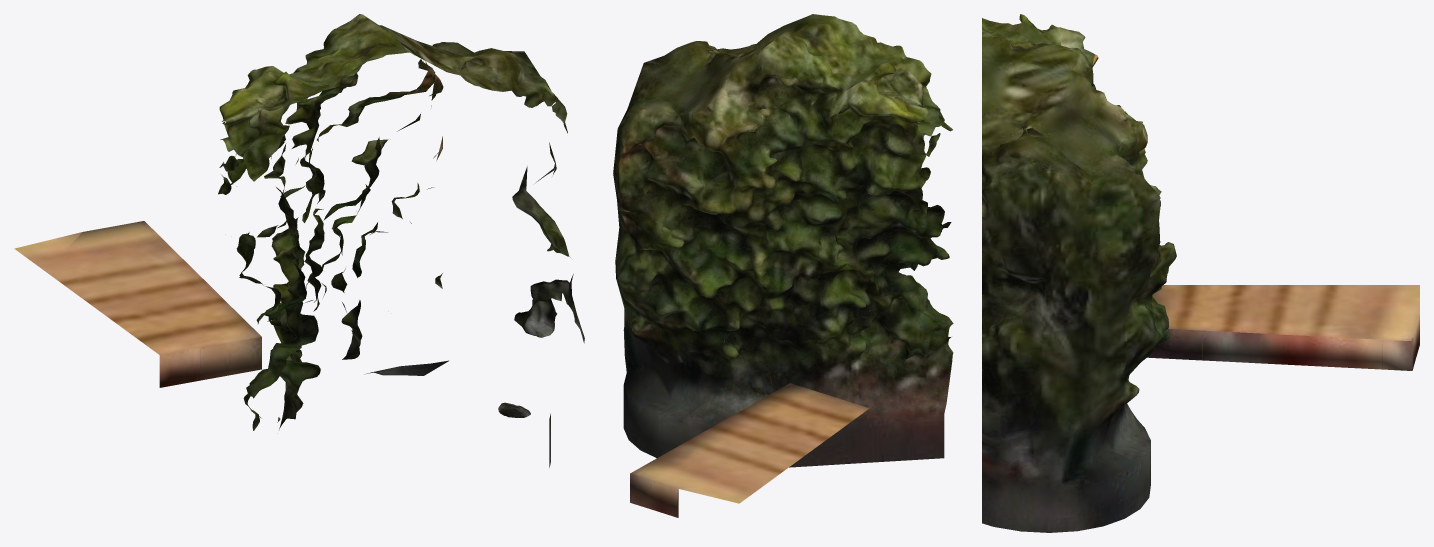
3 renders of one model, left to right at view 1: azimuth 30°, elevation 25°; view 2: azimuth 150°, elevation 25°; view 3: azimuth 270°, elevation 25°, orthographic. The views are drawn at different scales.
Size of the model in its own units: 1.14 by 1.46 by 1.4.
Materials: 1 (1 with a texture image).
